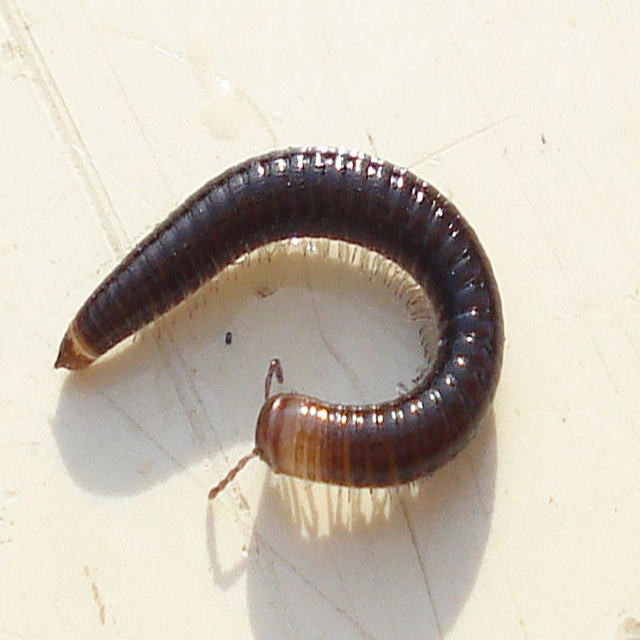Centipede: (53, 143, 503, 502)
